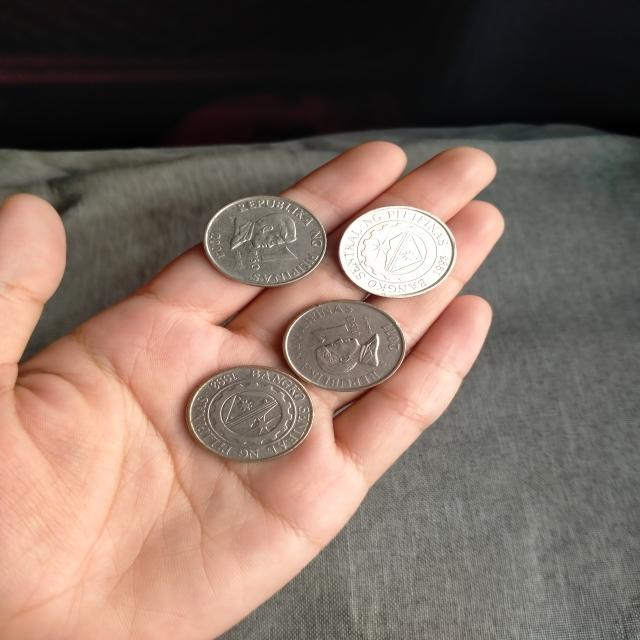1_Old_Back: (199, 378, 298, 452), (351, 216, 443, 287)
